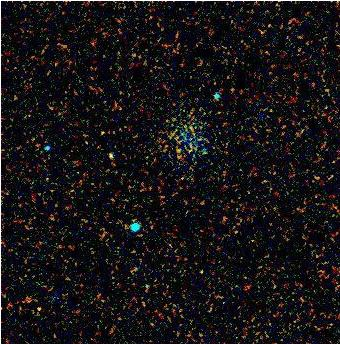star: (185, 252, 215, 282)
